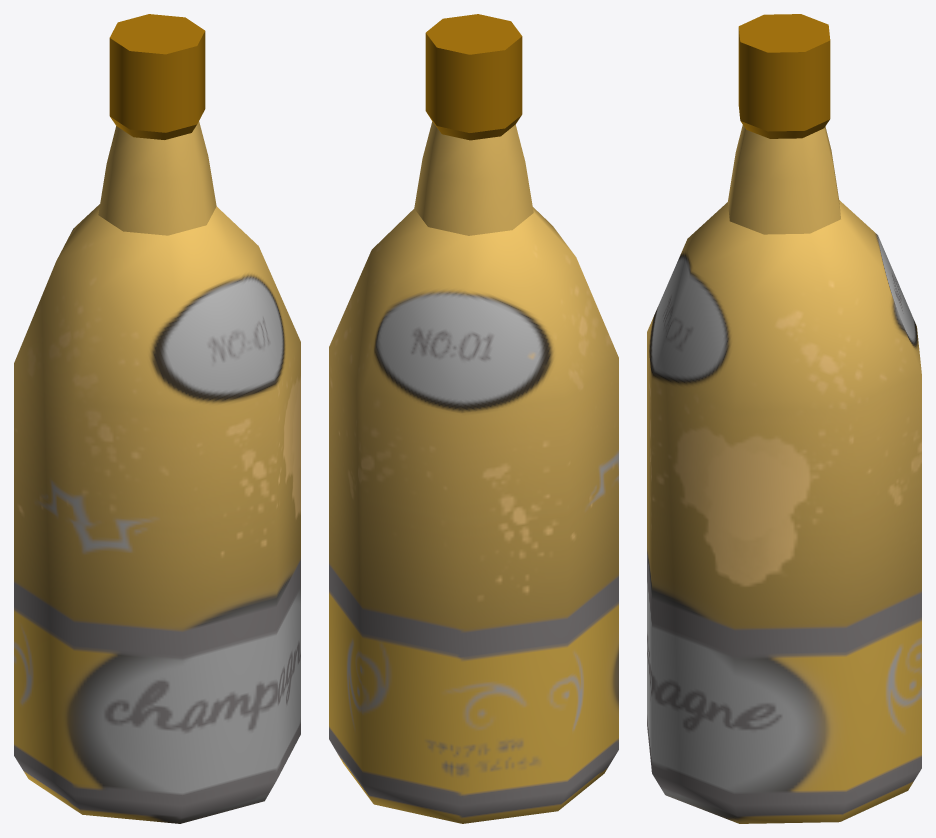
File: Champagne.fbx
3 views of the same model, side by side, from view 1: azimuth 30°, elevation 25°; view 2: azimuth 150°, elevation 25°; view 3: azimuth 270°, elevation 25° (orthographic).
Visible parts, largest first — view 1: Champagne; view 2: Champagne; view 3: Champagne.
Boxes of the visible parts, x1,y1,x2,y2 form: Champagne: (14, 14, 300, 823); Champagne: (329, 14, 618, 823); Champagne: (647, 14, 921, 823).
Bounding box in the file's own units: 10.69 × 31.71 × 10.69.
